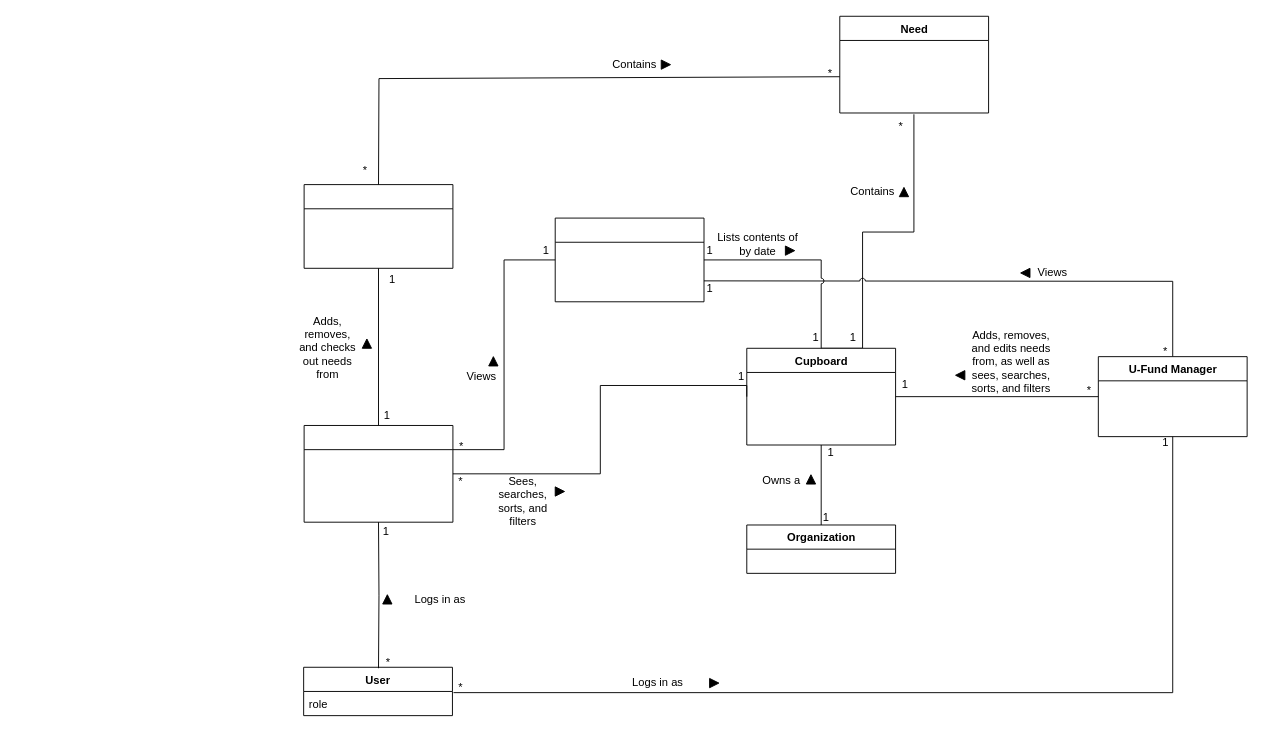
This 1263x735 diagram has some shape labels left out. The centre of each missing label's shape, as x and y in pixels:
"Funding Basket" belongs at point 378,226.
"Helper" belongs at point 378,473.
"Need Schedule" belongs at point 629,259.
